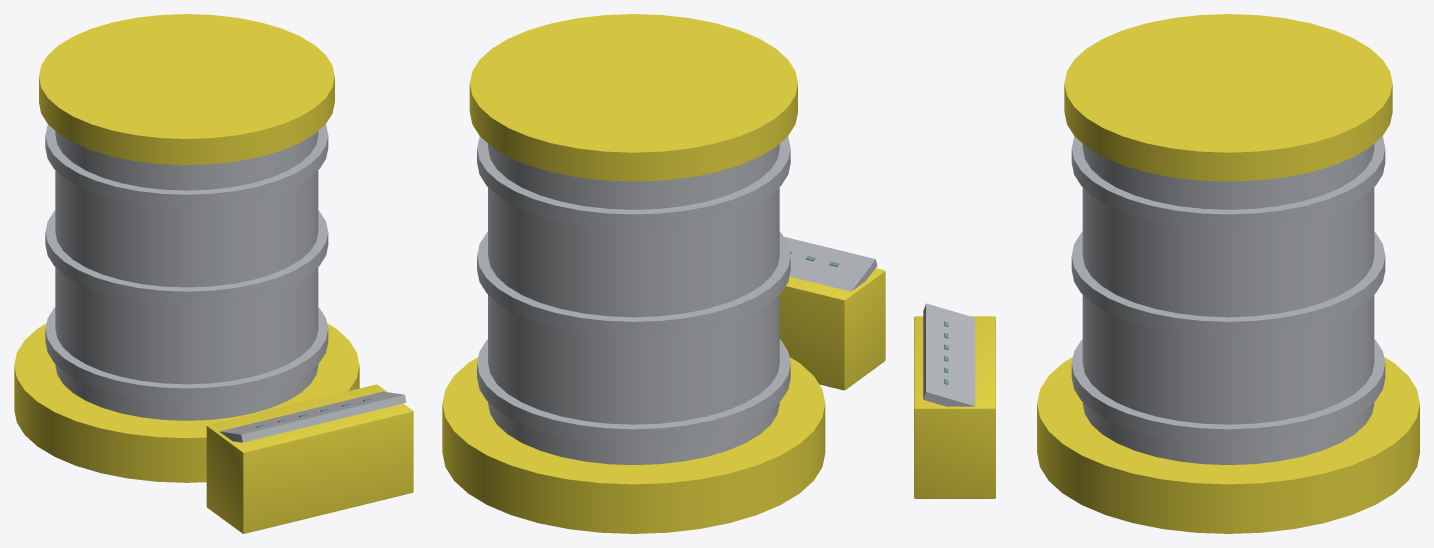
File: PR_reactor.fbx
The picture shows the model from 3 angles, left to right: view 1: azimuth 30°, elevation 25°; view 2: azimuth 150°, elevation 25°; view 3: azimuth 270°, elevation 25°; orthographic projection. The views are drawn at different scales.
Parts seen in each view (by area): view 1: PR_reactor; view 2: PR_reactor; view 3: PR_reactor.
Part boxes in pixels (x1=…): PR_reactor: x1=14, y1=14, x2=413, y2=533; PR_reactor: x1=442, y1=14, x2=885, y2=533; PR_reactor: x1=914, y1=14, x2=1419, y2=533.
Bounding box in the file's own units: 4.2 × 4.48 × 5.55.
